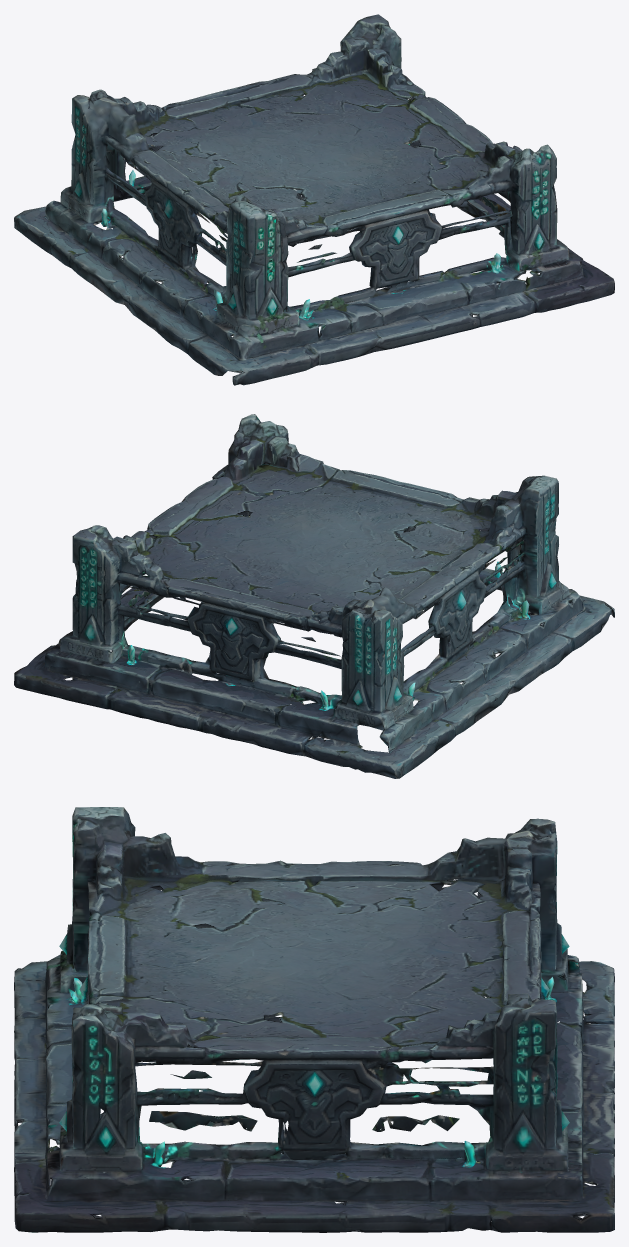
Rendered from Pillar4.fbx.
3 views of the same model, one above another, from view 1: azimuth 30°, elevation 25°; view 2: azimuth 150°, elevation 25°; view 3: azimuth 270°, elevation 25° (orthographic). The views are drawn at different scales.
Visible parts, largest first — view 1: texture_mapping; view 2: texture_mapping; view 3: texture_mapping.
Boxes of the visible parts, left/top/right/bottom form: texture_mapping: left=14, top=14, right=614, bottom=385; texture_mapping: left=14, top=414, right=614, bottom=778; texture_mapping: left=14, top=807, right=614, bottom=1232.
Bounding box in the file's own units: 0.9939 × 0.9923 × 0.3638.
Materials: 1 (1 with a texture image).
